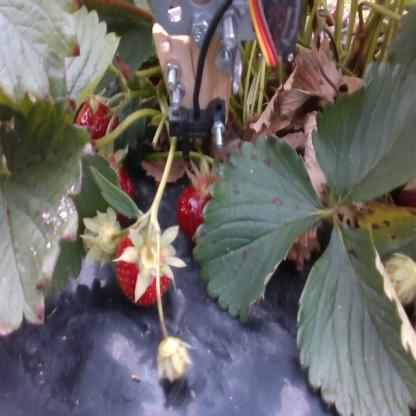ripe: (117, 230, 174, 306), (176, 182, 223, 238), (92, 162, 133, 219), (78, 103, 119, 152)
unripe: (158, 336, 188, 382)
